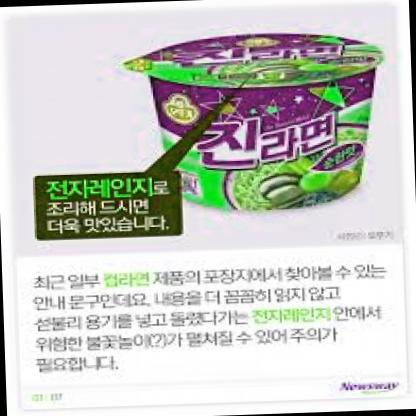Ramen: (142, 24, 393, 218)
